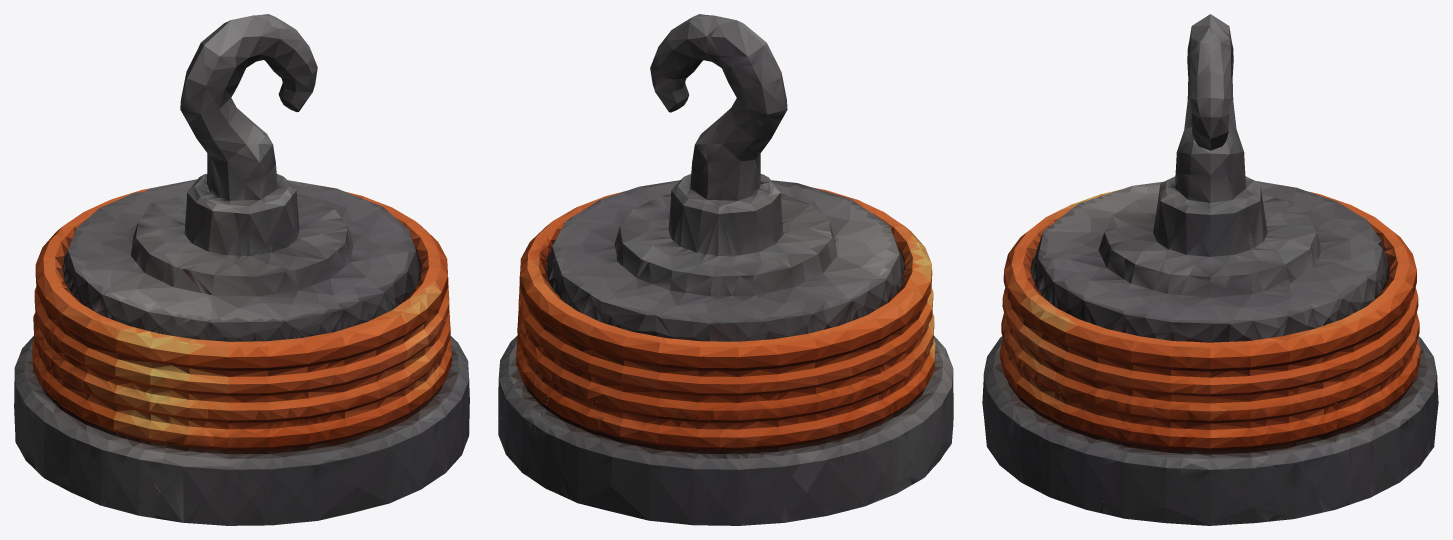
Rendered from building-magnetCrane-magnet-tripo.glb.
3 views of the same model, side by side, from view 1: azimuth 30°, elevation 25°; view 2: azimuth 150°, elevation 25°; view 3: azimuth 270°, elevation 25° (orthographic).
Visible parts, largest first — view 1: 0_magnetCrane-magnet; view 2: 0_magnetCrane-magnet; view 3: 0_magnetCrane-magnet.
Part boxes in pixels (x1,y1,x2,y2): 0_magnetCrane-magnet: (14,14,469,525); 0_magnetCrane-magnet: (498,14,953,525); 0_magnetCrane-magnet: (982,14,1438,525).
Bounding box in the file's own units: 0.9576 × 0.9532 × 0.96.
